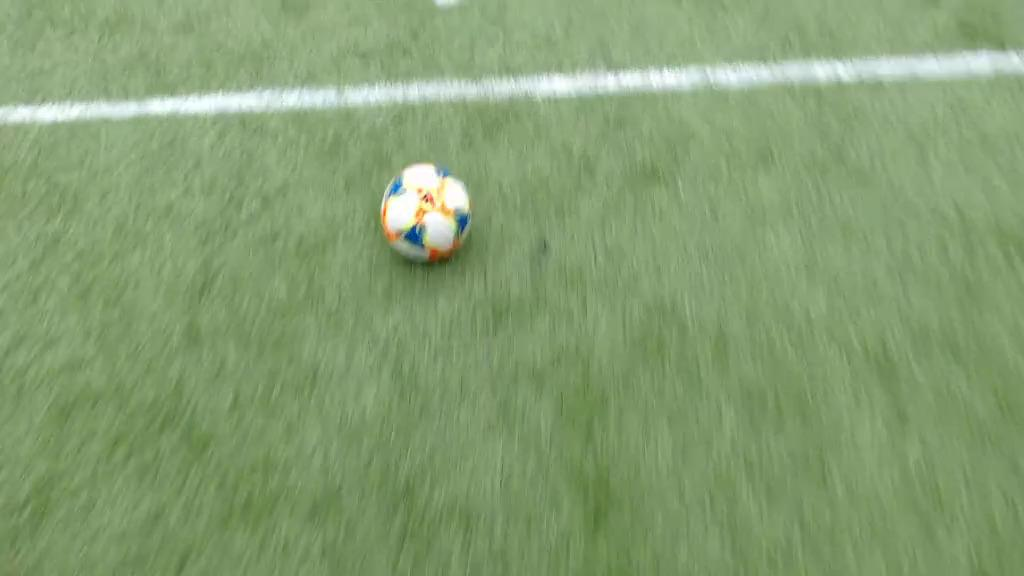ball: (381, 162, 469, 262)
